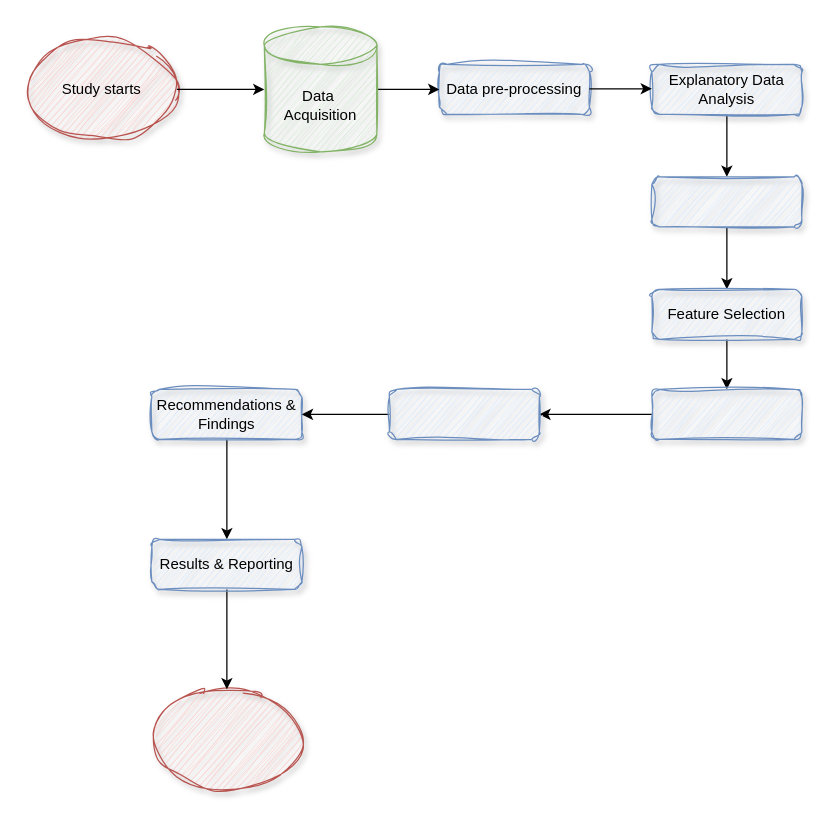
Some shapes in this 831 by 820 pixel diagram are drawn without their labels. The shapes that lost their labels are listed below. From the top down, each one's centre as x and y in pixels, then its label:
At pixel 727 203: "Clustering".
At pixel 465 415: "Model Performance Evaluation".
At pixel 727 415: "Model Selection & Training".
At pixel 227 740: "End of Study".
